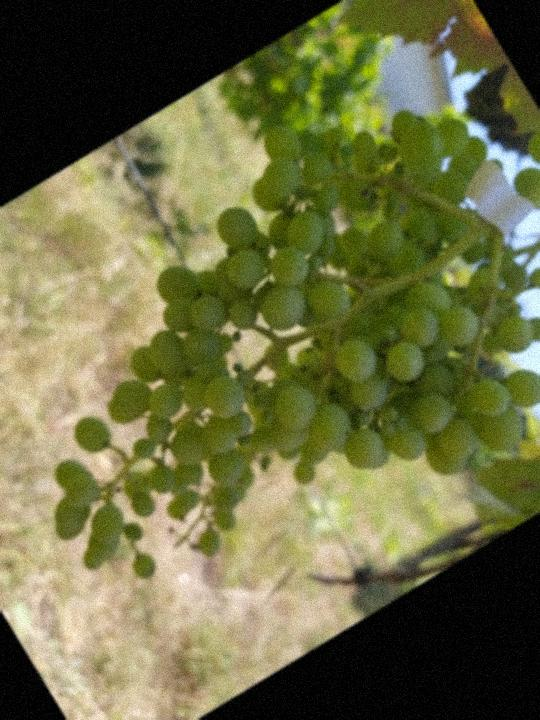grape: (0, 28, 540, 679)
